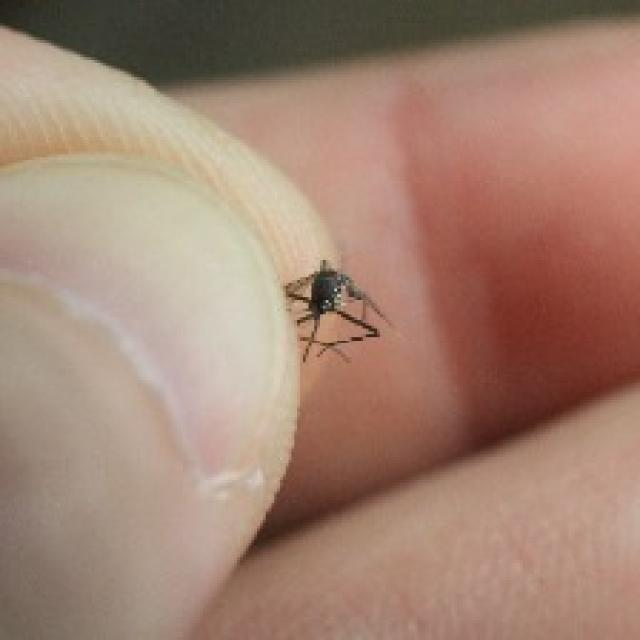aedes: (280, 257, 391, 366)
